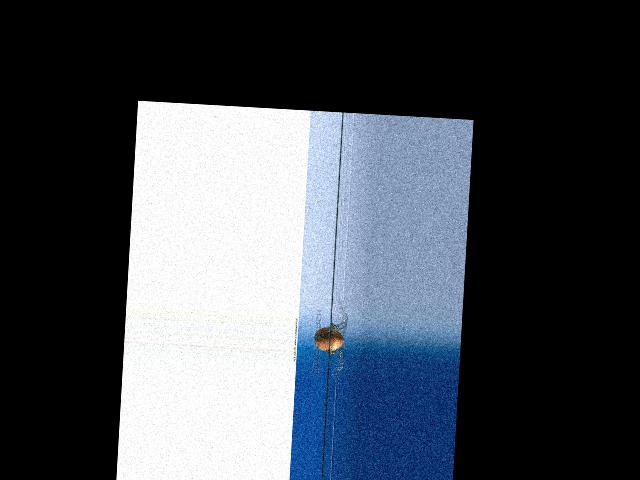egg: (313, 325, 343, 351)
